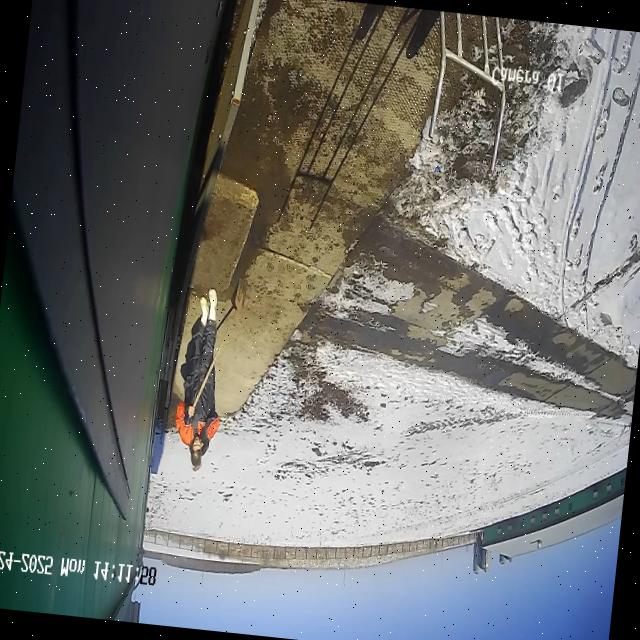Red uniform: (168, 284, 235, 474)
